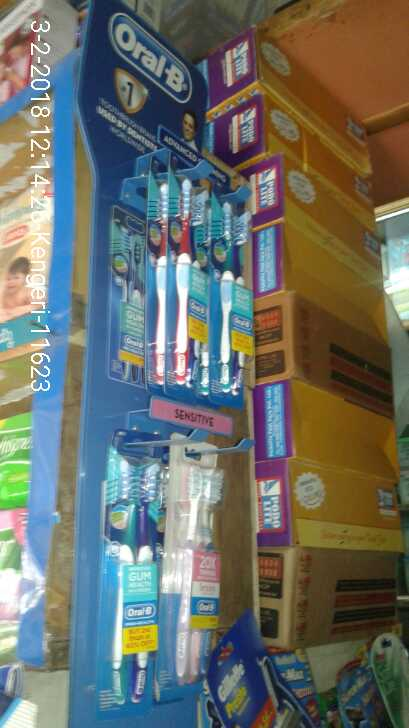oralb: (144, 163, 210, 393), (108, 438, 164, 699), (181, 449, 220, 679), (210, 192, 254, 393)
